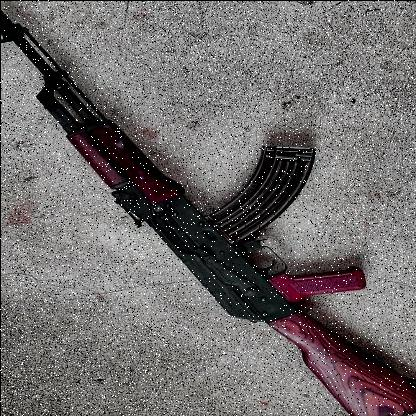rifle: (0, 35, 416, 416)
